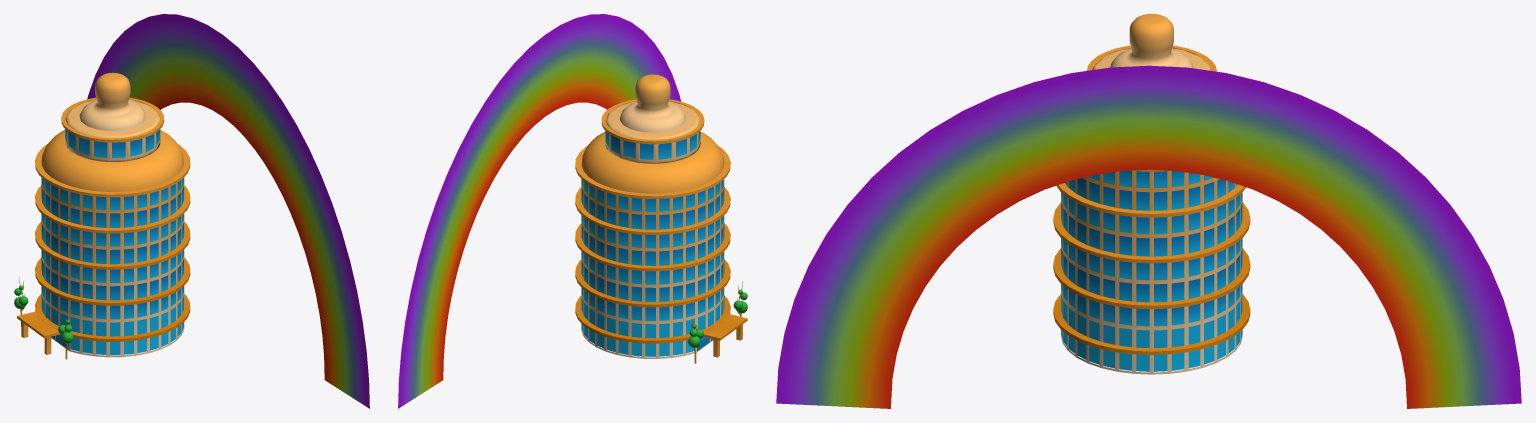
Rendered from baby_boss_sirket_binasi.fbx.
3 renders of one model, left to right at view 1: azimuth 30°, elevation 25°; view 2: azimuth 150°, elevation 25°; view 3: azimuth 270°, elevation 25°, orthographic. The views are drawn at different scales.
Visible parts, largest first — view 1: baby_boss_sirket_binasi, baby_boss_gokkusagi; view 2: baby_boss_sirket_binasi, baby_boss_gokkusagi; view 3: baby_boss_gokkusagi, baby_boss_sirket_binasi.
Part boxes in pixels (x1=…): baby_boss_sirket_binasi: x1=14, y1=72, x2=190, y2=359; baby_boss_gokkusagi: x1=87, y1=14, x2=369, y2=408; baby_boss_sirket_binasi: x1=575, y1=74, x2=747, y2=363; baby_boss_gokkusagi: x1=398, y1=14, x2=680, y2=408; baby_boss_gokkusagi: x1=776, y1=65, x2=1521, y2=408; baby_boss_sirket_binasi: x1=1053, y1=14, x2=1250, y2=374.
Bounding box in the file's own units: 12.18 × 16.55 × 32.58.
